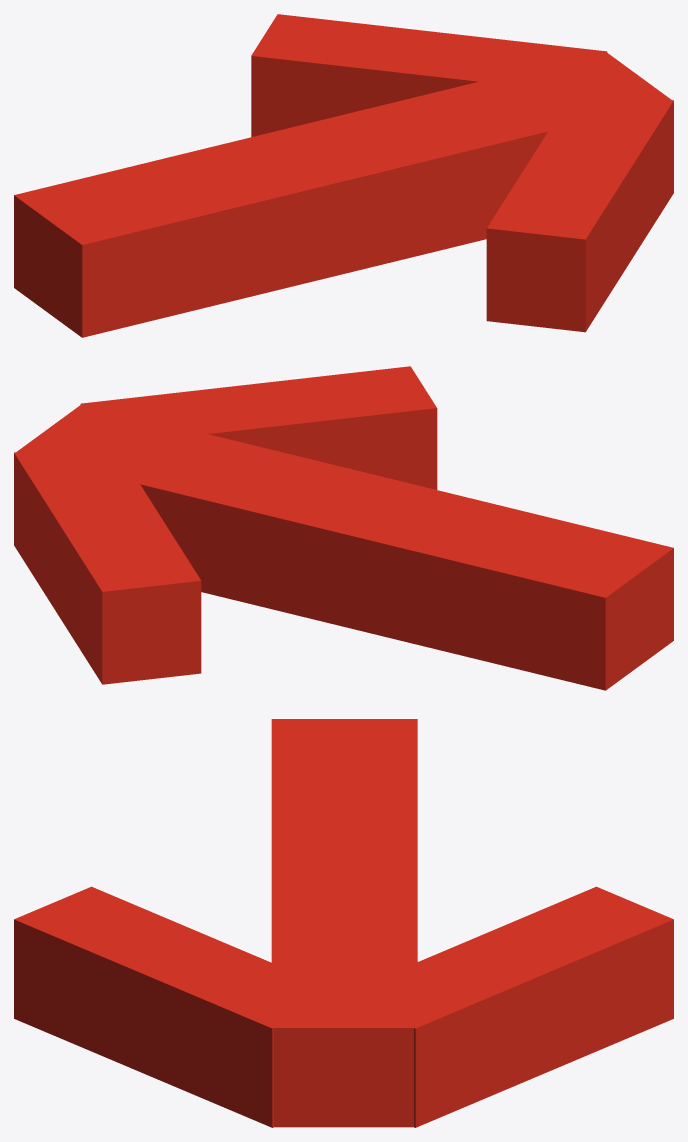
The picture shows the model from 3 angles, top to bottom: view 1: azimuth 30°, elevation 25°; view 2: azimuth 150°, elevation 25°; view 3: azimuth 270°, elevation 25°; orthographic projection. The views are drawn at different scales.
Parts seen in each view (by area): view 1: Cube.001; view 2: Cube.001; view 3: Cube.001.
Boxes of the visible parts, x1,y1,x2,y2 form: Cube.001: [14, 14, 673, 337]; Cube.001: [14, 366, 673, 690]; Cube.001: [14, 719, 673, 1127].
Size of the model in its own units: 200 by 30 by 181.
